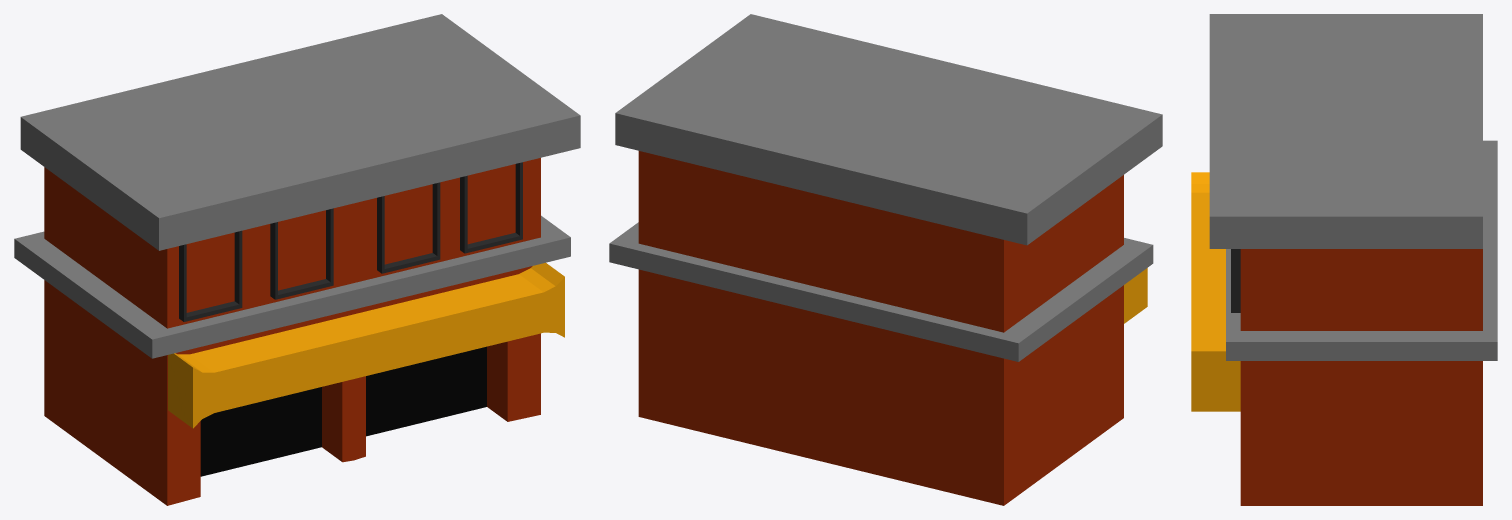
The model's file is PredioGenericoEscalavelVermelho.fbx.
3 renders of one model, left to right at view 1: azimuth 30°, elevation 25°; view 2: azimuth 150°, elevation 25°; view 3: azimuth 270°, elevation 25°, orthographic. The views are drawn at different scales.
Parts seen in each view (by area): view 1: LojaGenericaEscalavel; view 2: LojaGenericaEscalavel; view 3: LojaGenericaEscalavel.
Part boxes in pixels (box(x1,y1,x2,y2)): LojaGenericaEscalavel: box(14, 14, 580, 505); LojaGenericaEscalavel: box(609, 14, 1162, 505); LojaGenericaEscalavel: box(1191, 14, 1497, 505).
Size of the model in its own units: 1095 by 757 by 699.
